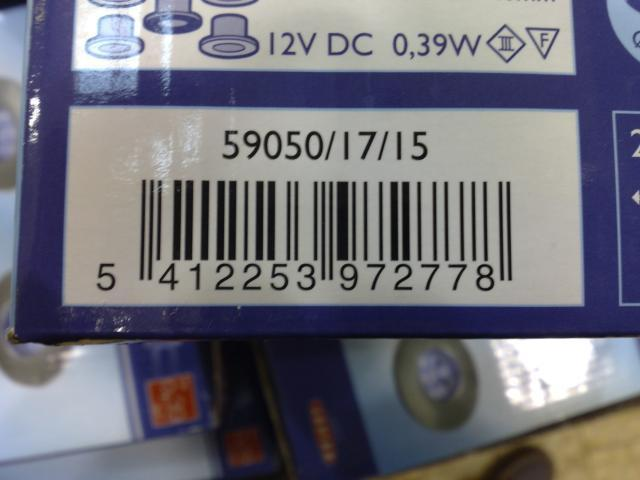Barcode: (90, 165, 535, 303)
